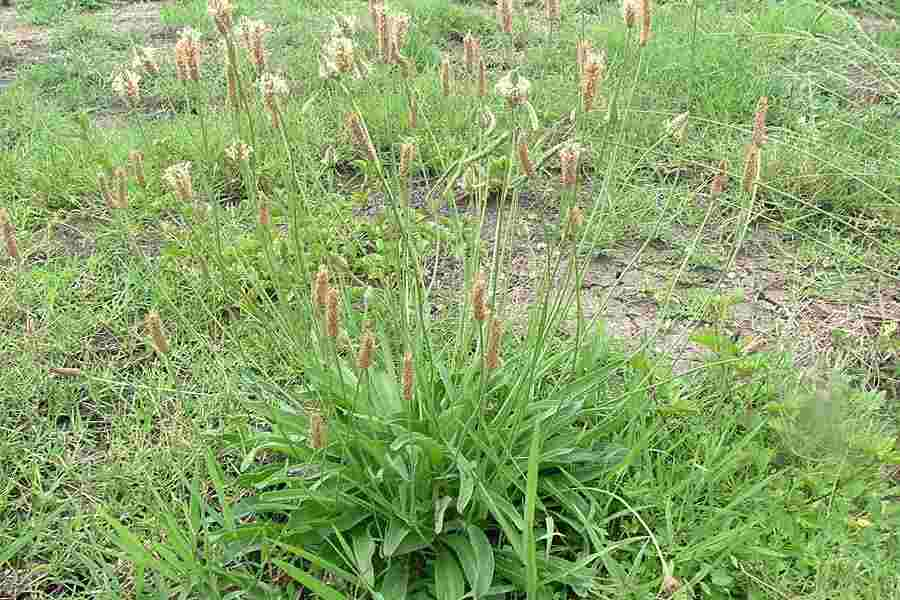buckhorn plantain: (103, 8, 763, 544)
